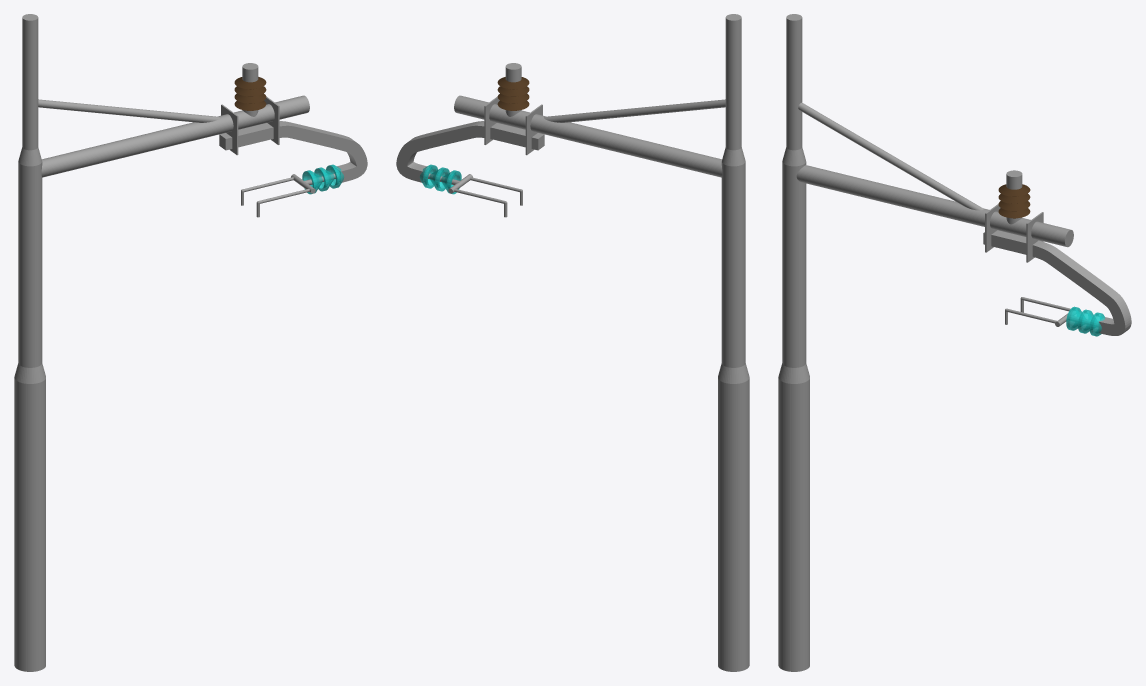
File: paloL.obj
The picture shows the model from 3 angles, left to right: view 1: azimuth 30°, elevation 25°; view 2: azimuth 150°, elevation 25°; view 3: azimuth 330°, elevation 25°; orthographic projection.
Visible parts, largest first — view 1: Cylinder.012_Cylinder.007, Cylinder.002; view 2: Cylinder.012_Cylinder.007, Cylinder.002; view 3: Cylinder.012_Cylinder.007, Cylinder.002.
Part boxes in pixels (x1,y1,x2,y2): Cylinder.012_Cylinder.007: (14, 14, 45, 671); Cylinder.002: (38, 63, 367, 217); Cylinder.012_Cylinder.007: (718, 14, 749, 671); Cylinder.002: (396, 63, 725, 217); Cylinder.012_Cylinder.007: (778, 14, 809, 671); Cylinder.002: (796, 102, 1131, 336).
Bounding box in the file's own units: 25.29 × 45 × 2.5.
